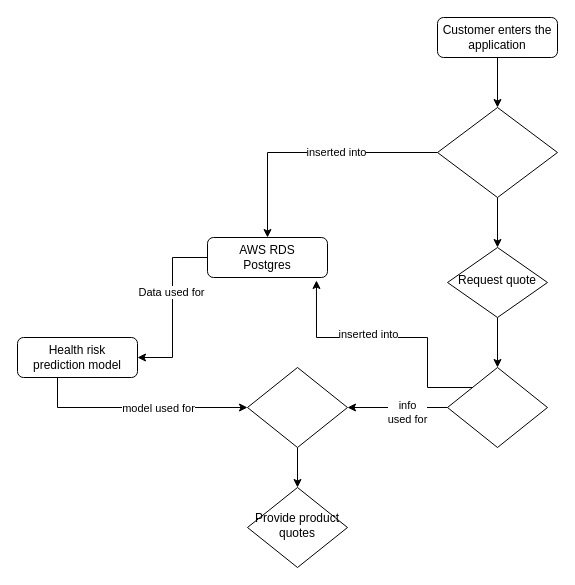
Some shapes in this 575 by 585 pixel diagram are drawn without their labels. Here are the shapes that lost their labels. From the top down, the box of each, then its label:
(436, 106, 558, 198): Provide customer information
(246, 366, 348, 448): Predict risk
(446, 366, 548, 448): Provide information
